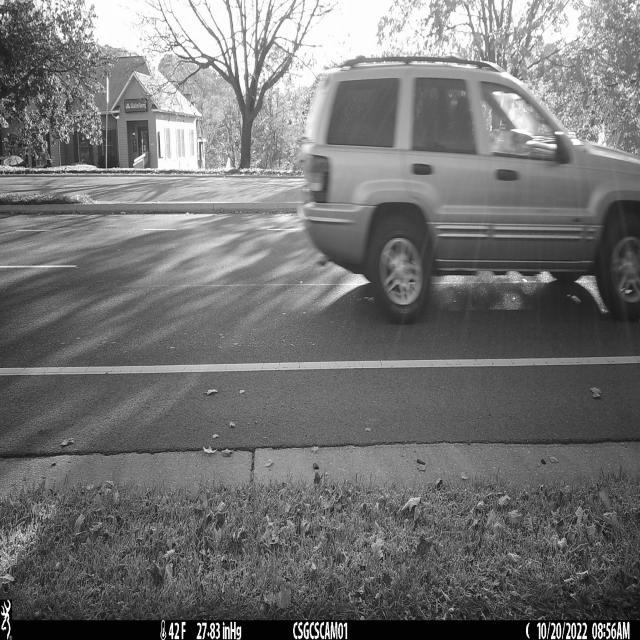SUV: (300, 57, 640, 324)
